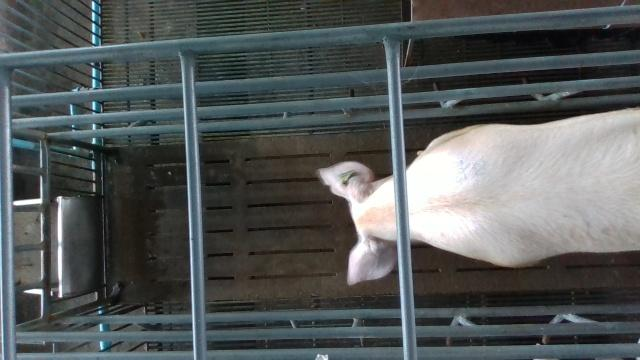sow-stand: (317, 108, 640, 285)
